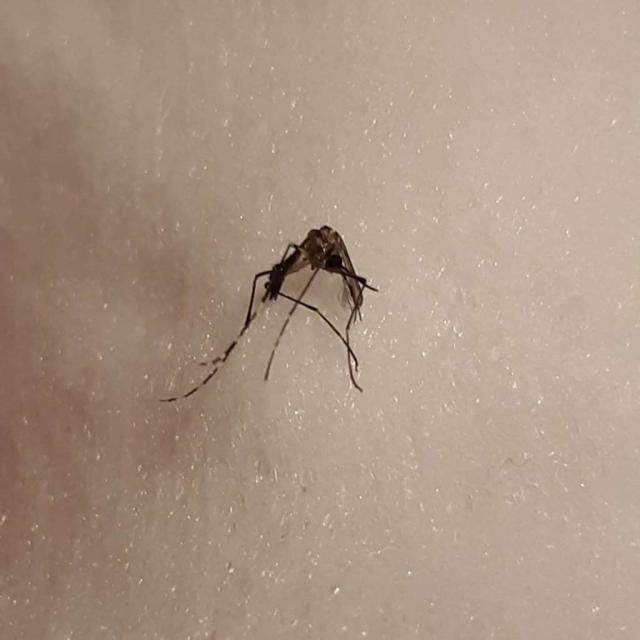albopictus: (172, 219, 382, 407)
